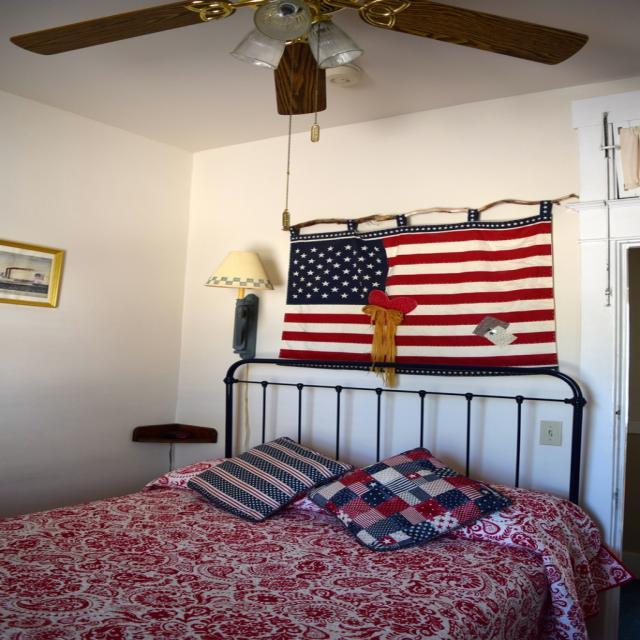fan_off: (11, 0, 594, 116)
